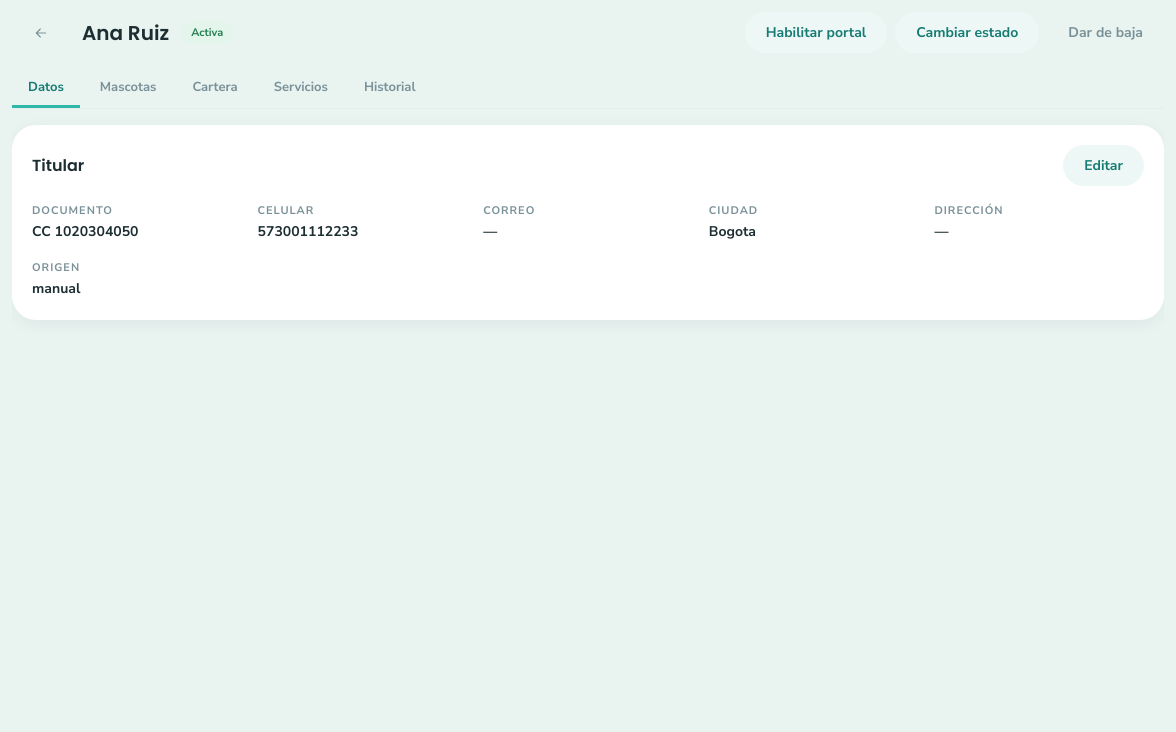
Scenario: FamiliaDetallePage › edita los datos y envía sólo los campos que cambiaron
Click the button "Editar" at (1104, 166), box [1063, 145, 1144, 186]
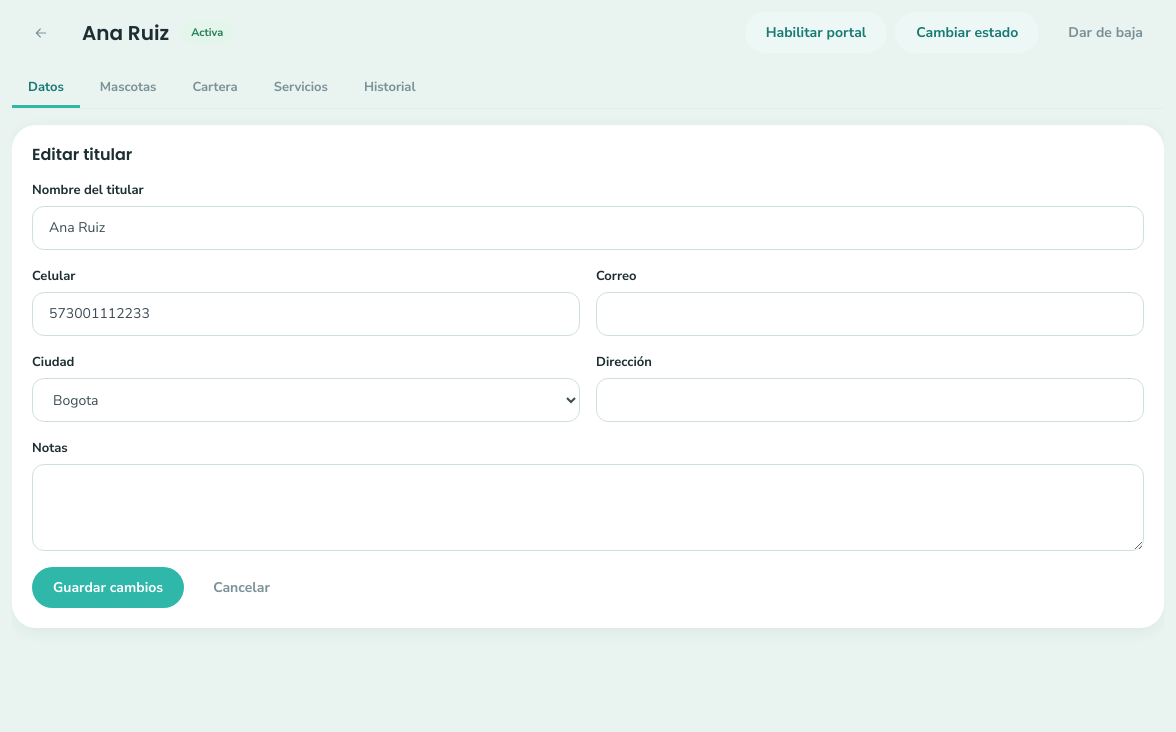
Type "Calle 1 # 2-3" into the field labelled "Dirección" at (870, 400), box [596, 378, 1144, 422]
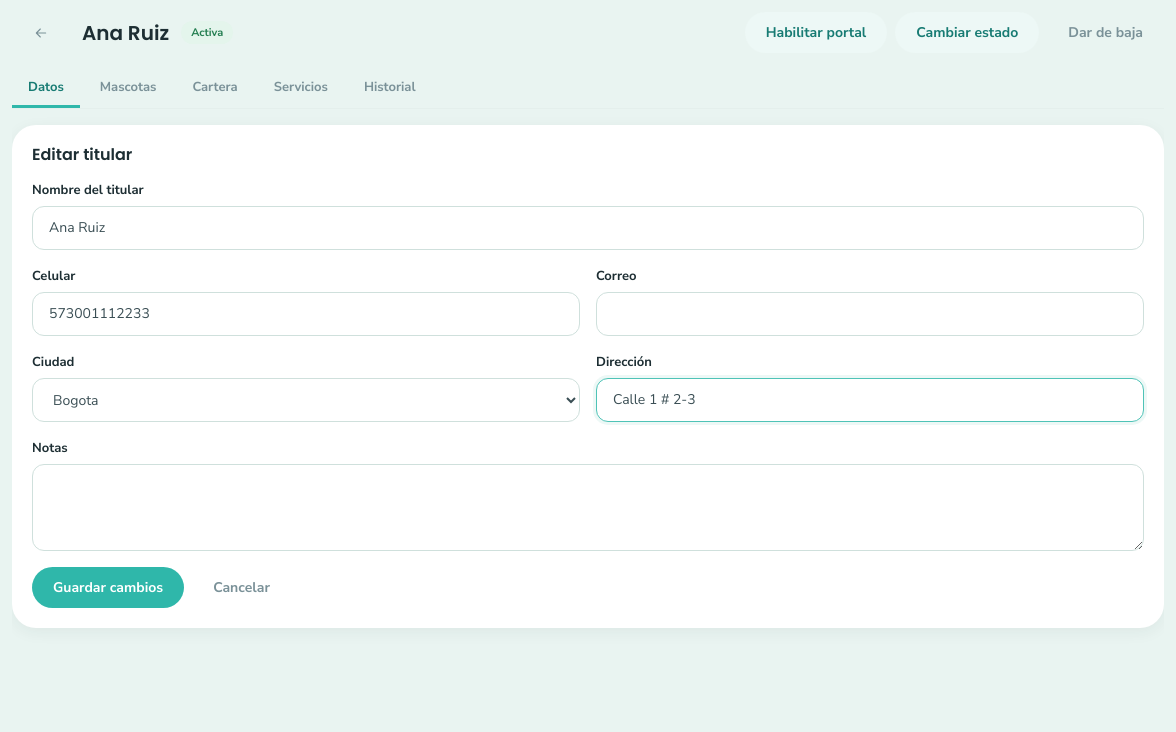
Click the button "Guardar cambios" at (108, 588), box [32, 567, 184, 608]
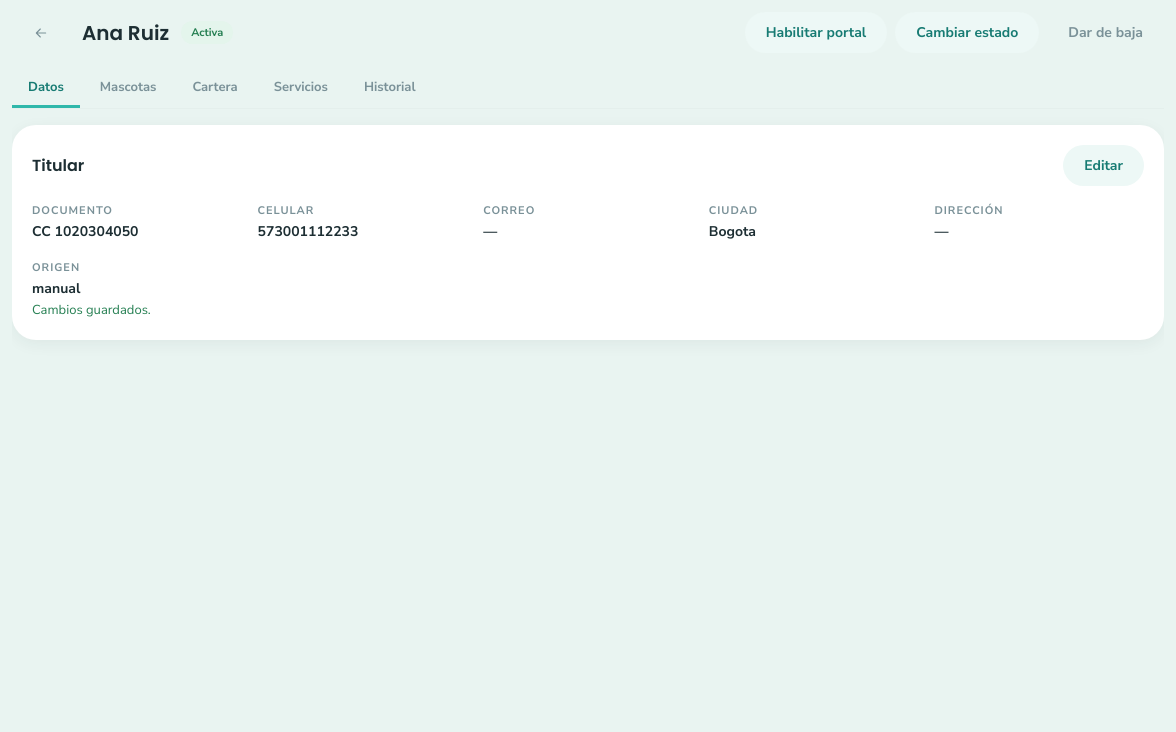
Now the text "Cambios guardados." is shown, box [32, 301, 151, 319]
